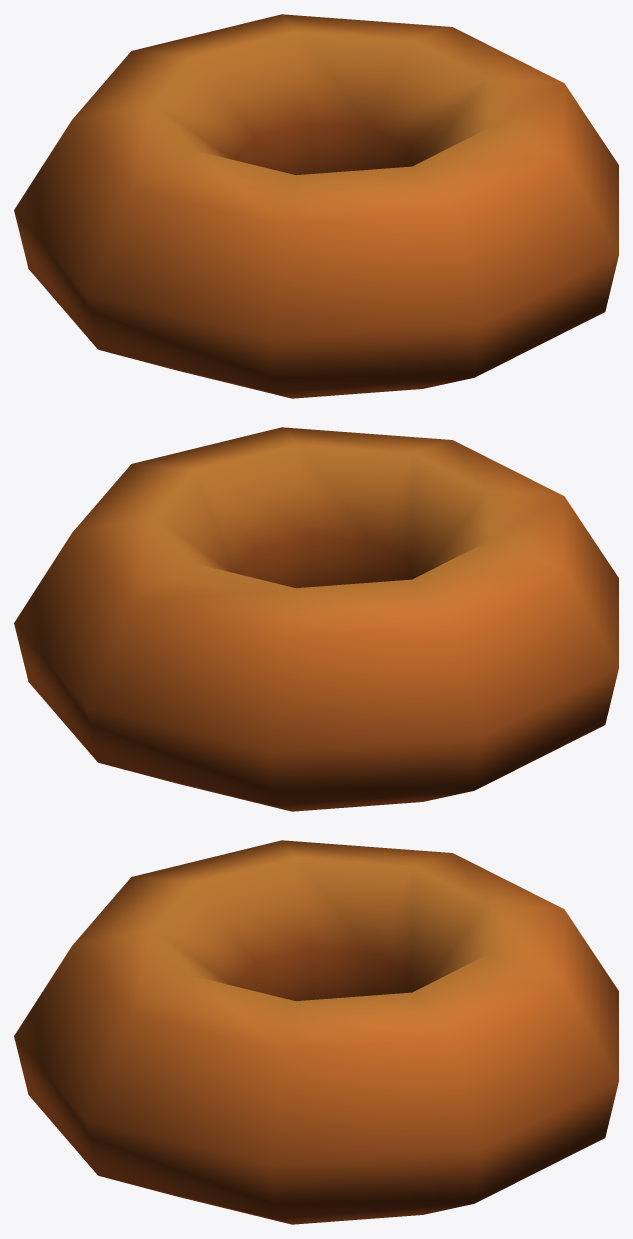
Rendered from Donut_Regular.fbx.
The picture shows the model from 3 angles, top to bottom: view 1: azimuth 30°, elevation 25°; view 2: azimuth 150°, elevation 25°; view 3: azimuth 270°, elevation 25°; orthographic projection.
Parts seen in each view (by area): view 1: Donut_Regular; view 2: Donut_Regular; view 3: Donut_Regular.
Part boxes in pixels (x1=…): Donut_Regular: x1=14, y1=14, x2=618, y2=398; Donut_Regular: x1=14, y1=427, x2=618, y2=811; Donut_Regular: x1=14, y1=840, x2=618, y2=1224.
Bounding box in the file's own units: 32.44 × 12.49 × 31.94.
